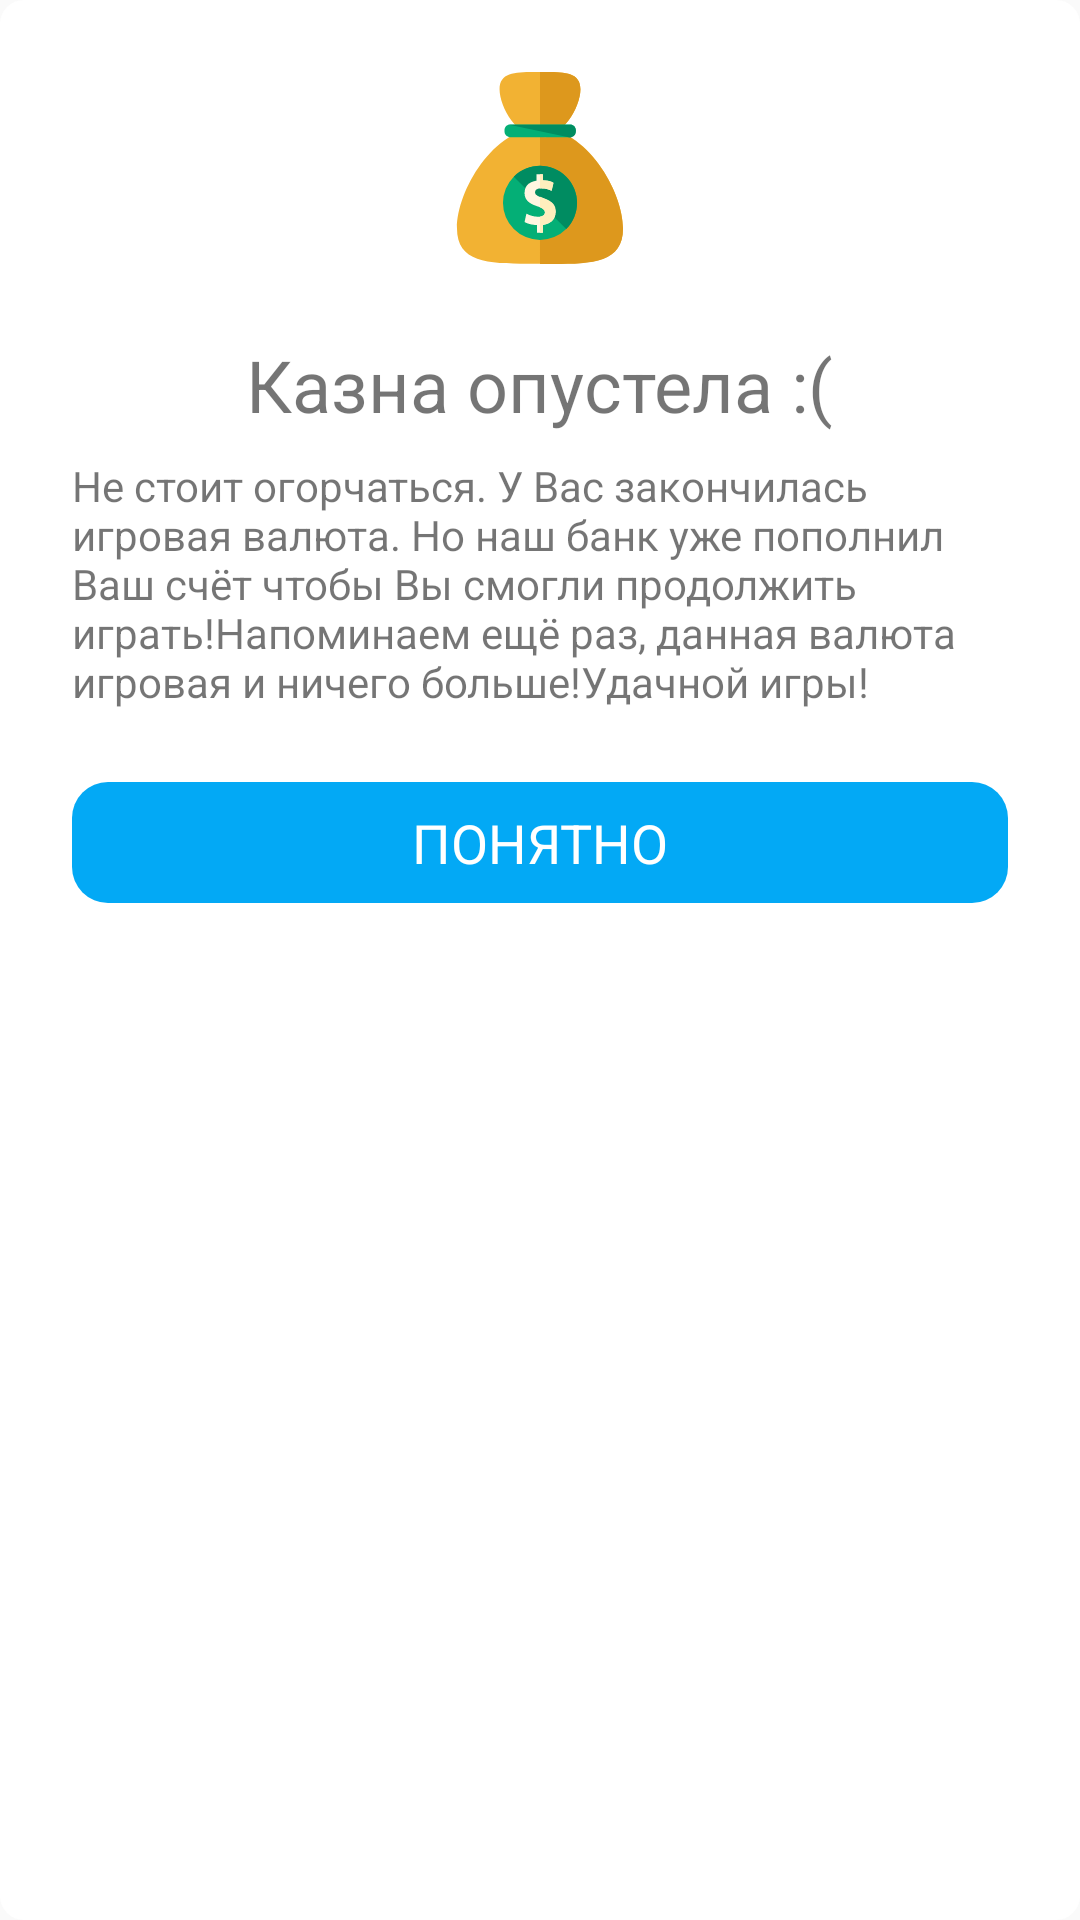

Screen size 1080px×1920px. Icon name, then its center in pixels as [x,y]:
money: [539,168]
